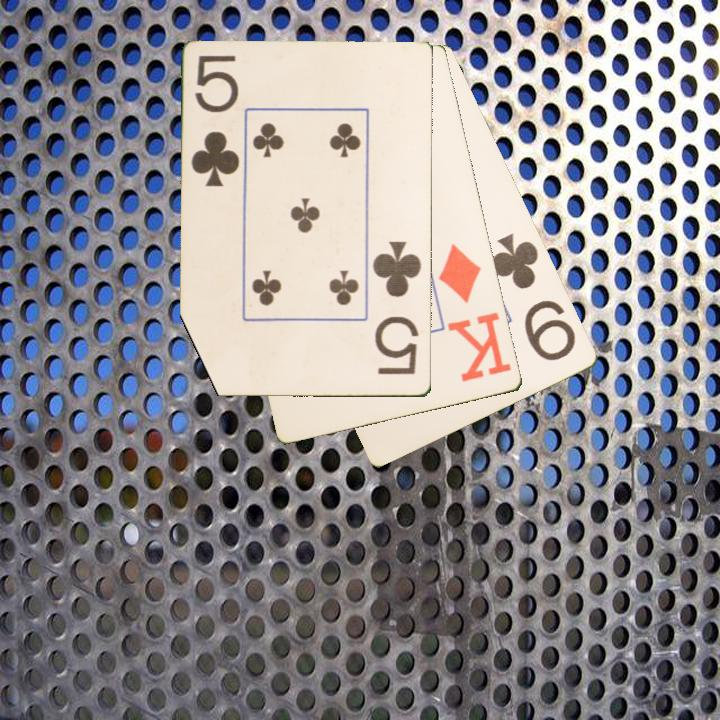5c: (369, 238, 425, 378), (188, 52, 243, 191)
9c: (488, 230, 580, 364)
Kd: (435, 240, 514, 385)
